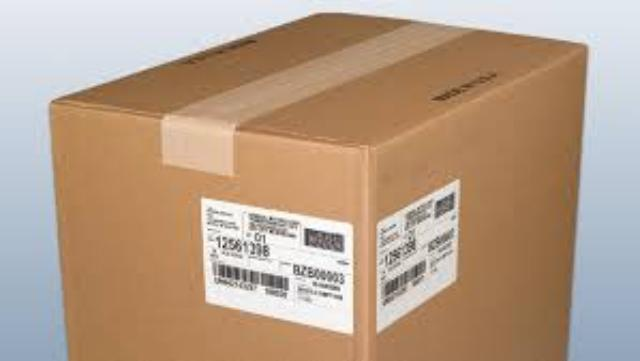cardboard paper: (49, 13, 582, 355)
